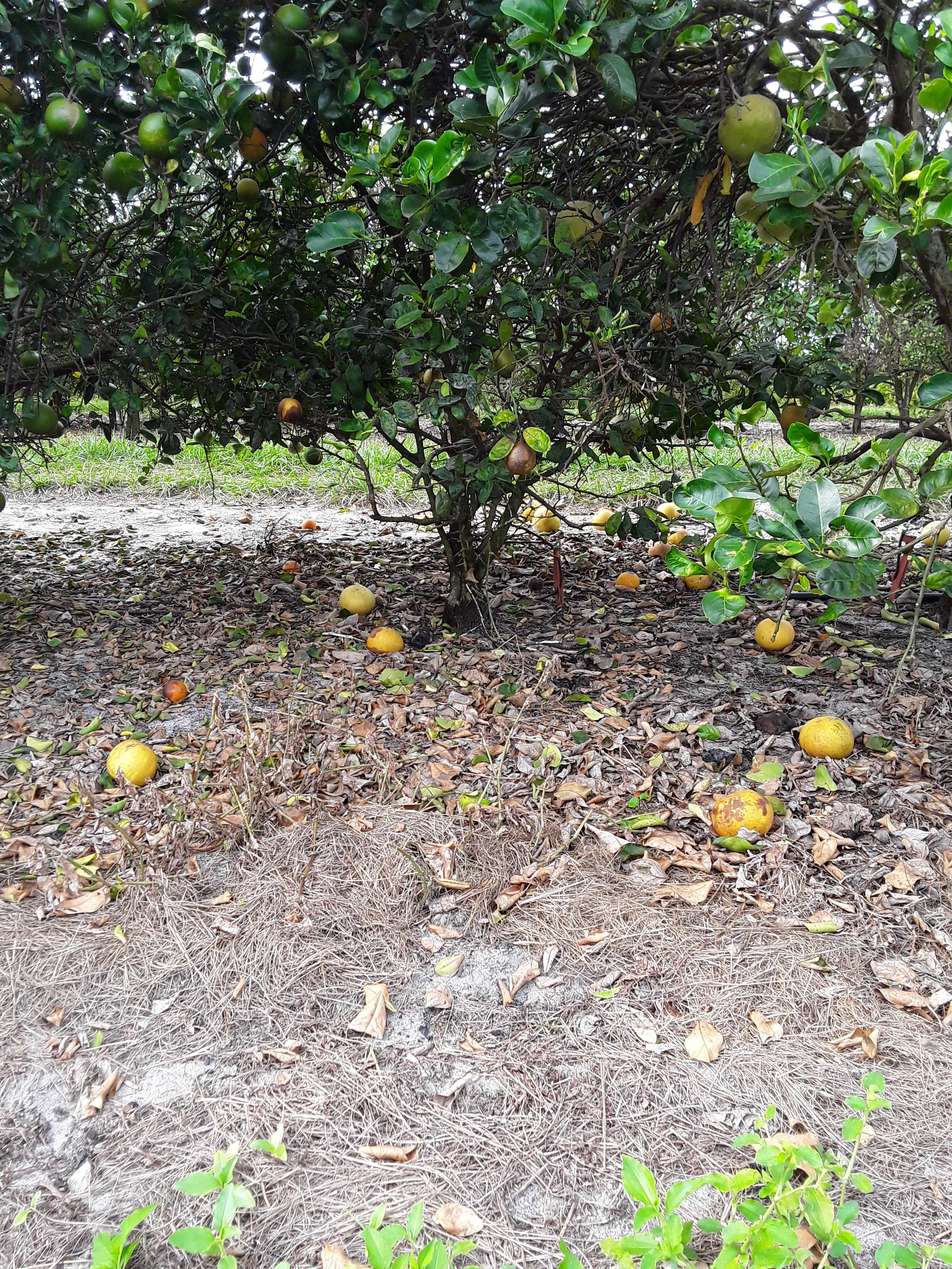fruit_on_ground: (716, 89, 787, 163), (551, 197, 608, 251), (135, 108, 183, 159), (42, 94, 89, 140), (100, 150, 144, 194), (255, 28, 301, 69), (63, 1, 110, 41), (754, 205, 800, 245), (106, 0, 157, 33), (20, 396, 60, 435), (25, 236, 65, 274), (270, 2, 312, 38), (733, 187, 772, 224), (502, 440, 539, 478), (235, 124, 271, 163), (775, 401, 814, 436), (334, 15, 370, 51), (486, 344, 518, 379), (265, 80, 297, 114), (0, 73, 25, 114), (274, 394, 307, 425), (233, 174, 264, 205), (647, 309, 679, 337), (158, 431, 183, 457), (16, 348, 43, 372), (41, 418, 68, 440), (302, 444, 326, 467), (191, 425, 213, 448), (284, 436, 305, 455), (0, 481, 9, 515)
fruit_on_tree: (751, 1125, 826, 1186), (708, 787, 775, 843), (796, 711, 858, 763), (103, 738, 159, 790), (681, 1018, 728, 1068), (753, 614, 797, 654), (336, 581, 378, 618), (365, 623, 406, 655), (754, 708, 796, 737), (919, 517, 951, 550), (530, 505, 565, 535), (680, 563, 717, 591), (161, 676, 190, 704), (588, 505, 617, 528), (614, 569, 642, 592), (665, 526, 692, 549), (646, 538, 672, 559), (520, 501, 542, 525), (660, 500, 682, 520), (279, 559, 301, 575), (301, 516, 319, 531)
